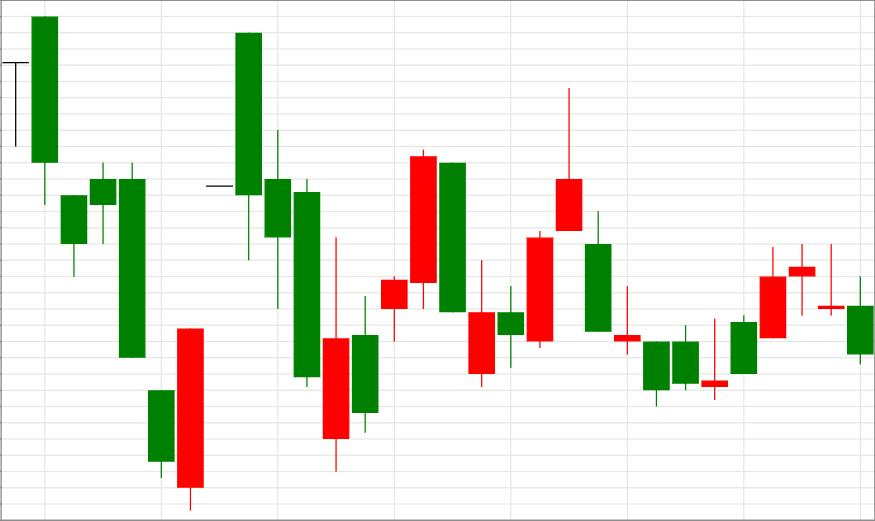shooting_star_fall: (468, 88, 583, 387)
